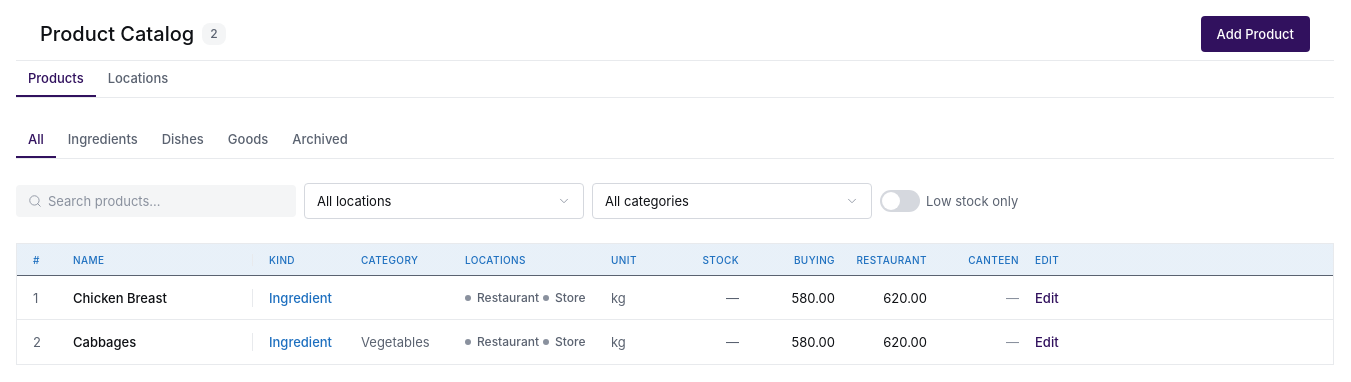
it: /admin/catalog — kit composition › the category filter narrows the visible rows client-side and clears with Clear filters
This screenshot has width=1351, height=382.
Expected: the text "Chicken Breast" is shown, x1=73 y1=288 x2=167 y2=306
Expected: the text "Cabbages" is shown, x1=73 y1=333 x2=136 y2=351
Step 1. Click the dropdown named "Filter by category" → (647, 201), box x1=592 y1=183 x2=872 y2=219
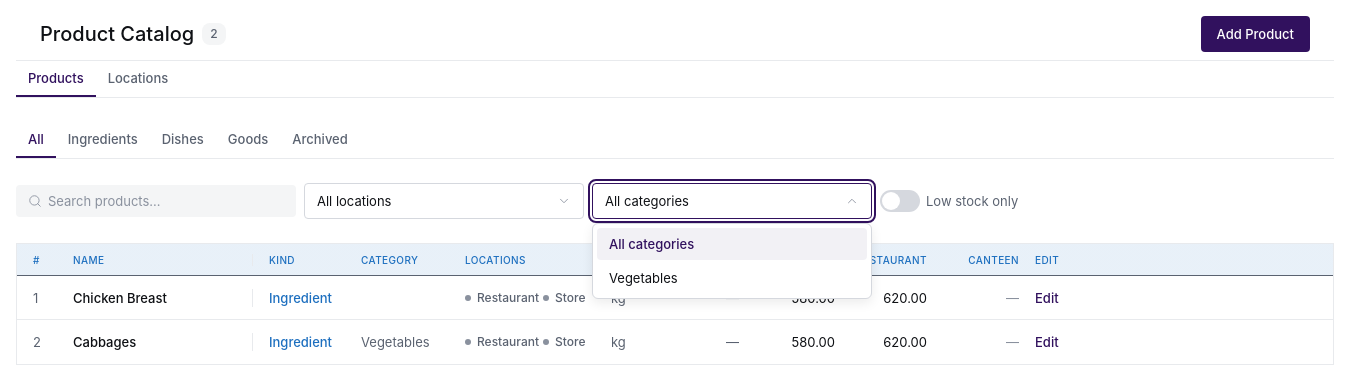
Step 2. Click the option "Vegetables" → (643, 278), box x1=609 y1=270 x2=678 y2=286
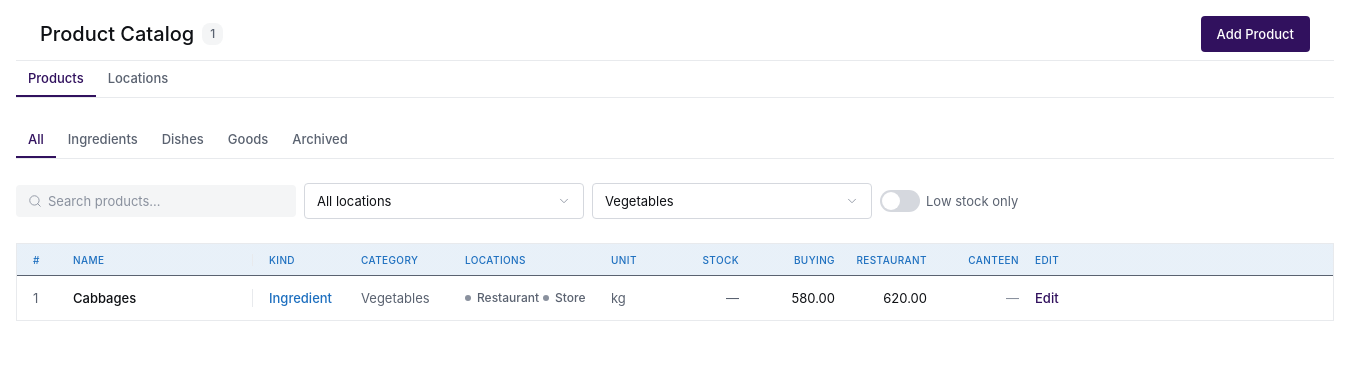
Expected: the text "Cabbages" is shown, x1=73 y1=289 x2=136 y2=307
Now the text "Chicken Breast" is gone
// Picking "All categories" again restores both rows.
Step 3. Click the dropdown named "Filter by category" → (639, 201), box x1=592 y1=183 x2=872 y2=219
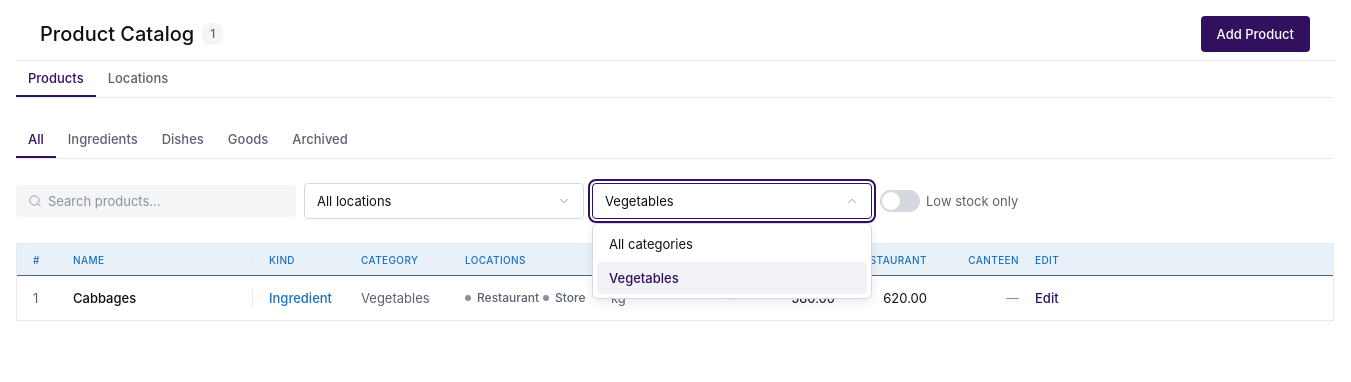
Step 4. Click the option "All categories" → (651, 244), box x1=609 y1=236 x2=693 y2=252
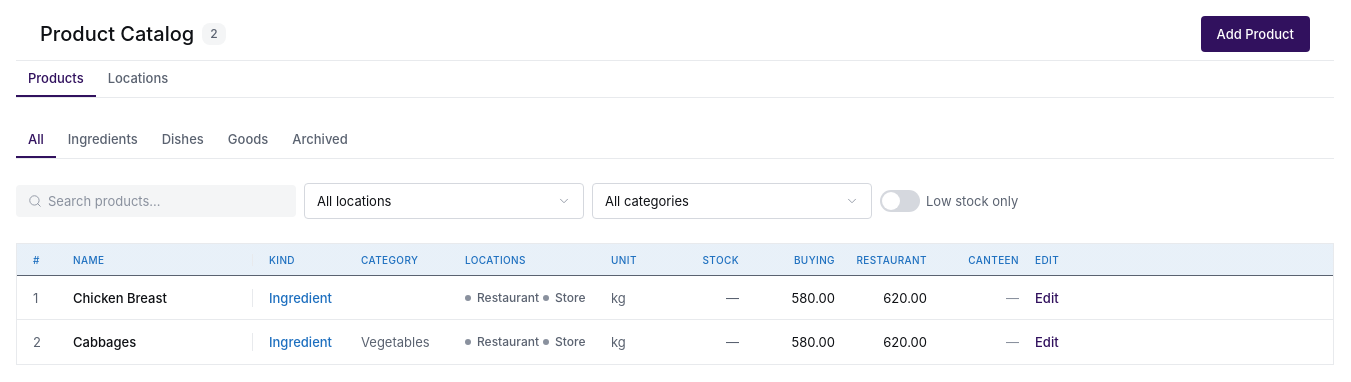
Expected: the text "Cabbages" is shown, x1=73 y1=333 x2=136 y2=351
Now the text "Chicken Breast" is shown, box x1=73 y1=288 x2=167 y2=306
